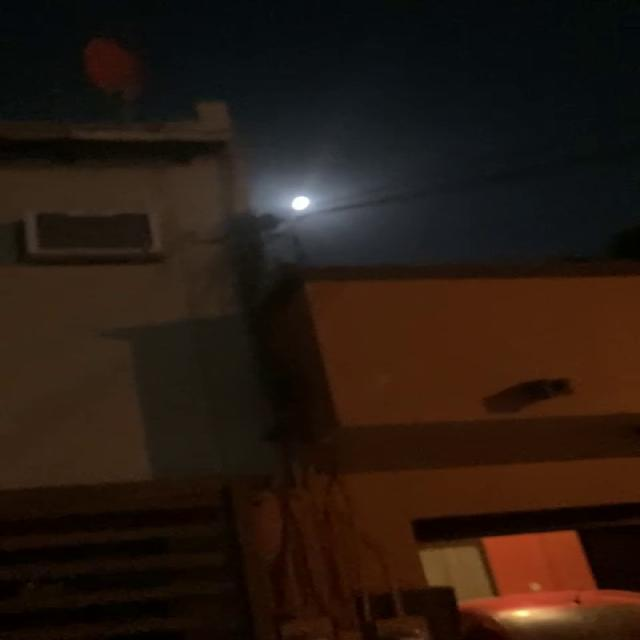moon: (279, 184, 325, 214)
